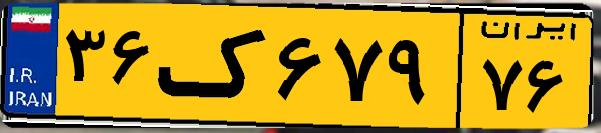3: (57, 26, 110, 100)
6: (270, 28, 330, 110), (525, 38, 570, 115), (110, 28, 158, 98)
7: (330, 28, 385, 110), (475, 38, 525, 113)
9: (385, 28, 445, 110)
ک: (158, 12, 270, 120)
